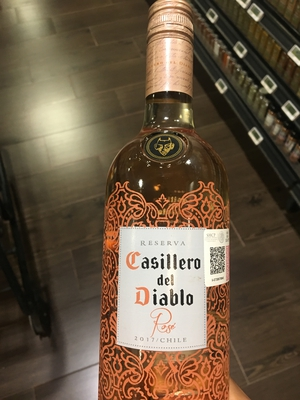casillero del diablo rose: (90, 14, 268, 400)
